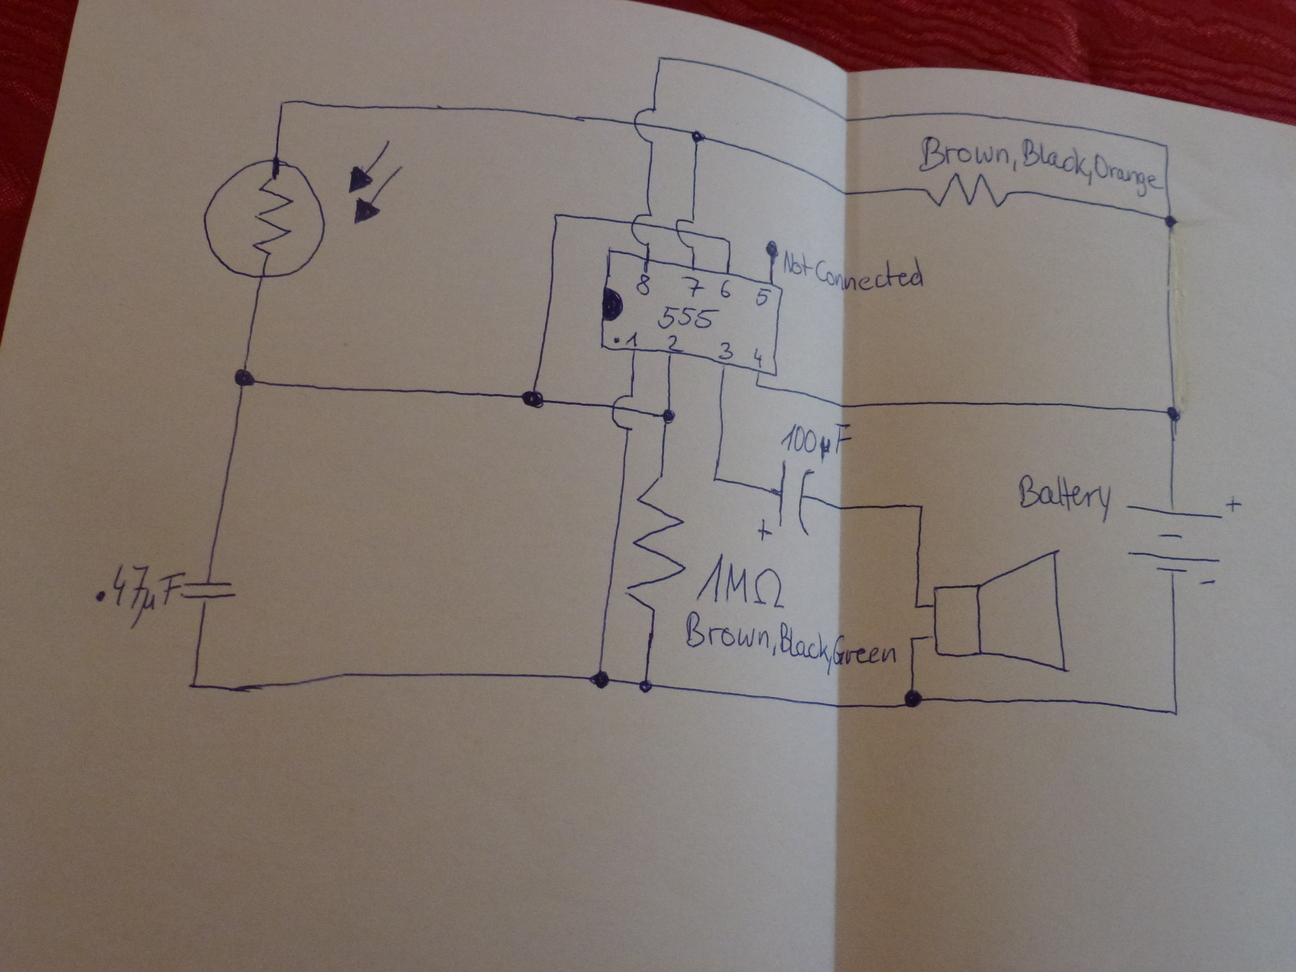capacitor.polarized: (755, 460, 820, 544)
capacitor.unpolarized: (175, 576, 239, 606)
crossover: (608, 391, 641, 434), (630, 104, 661, 144), (629, 210, 655, 247), (672, 215, 699, 252)
integrated_circuit: (596, 247, 785, 380)
junction: (229, 360, 261, 393), (584, 665, 614, 692), (630, 672, 659, 697), (182, 671, 207, 696), (520, 387, 547, 411), (899, 686, 925, 711), (1159, 209, 1182, 232), (273, 93, 294, 114), (1162, 403, 1184, 424), (657, 404, 678, 426), (688, 125, 707, 145), (1167, 703, 1184, 719), (708, 472, 722, 486), (653, 49, 666, 64), (914, 499, 929, 513), (906, 632, 918, 644), (1160, 140, 1173, 152), (722, 233, 734, 246), (550, 209, 562, 221), (837, 399, 848, 411), (911, 600, 923, 612)
resistor: (628, 471, 687, 623), (912, 171, 1019, 216)
resistor.photo: (201, 136, 407, 282)
speaker: (926, 547, 1071, 676)
terminal: (764, 238, 780, 260)
text: (683, 609, 898, 678), (920, 135, 1159, 185), (782, 248, 926, 294), (1016, 473, 1116, 526), (109, 562, 187, 630), (696, 553, 787, 611), (776, 419, 843, 461), (657, 303, 719, 334), (683, 270, 704, 300), (610, 330, 641, 348), (634, 270, 652, 296), (750, 346, 768, 371), (663, 332, 685, 350), (717, 338, 735, 360), (718, 275, 733, 298), (754, 288, 769, 304)
voltage.dc: (1119, 495, 1242, 590)
